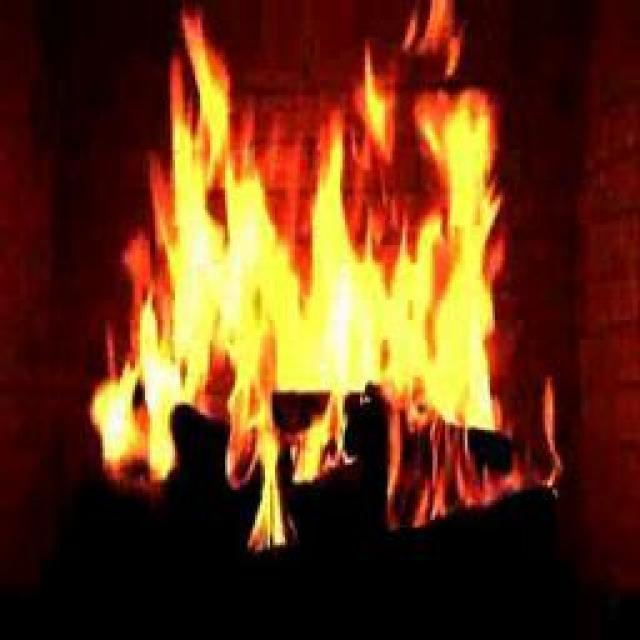Fire: (102, 63, 523, 481)
